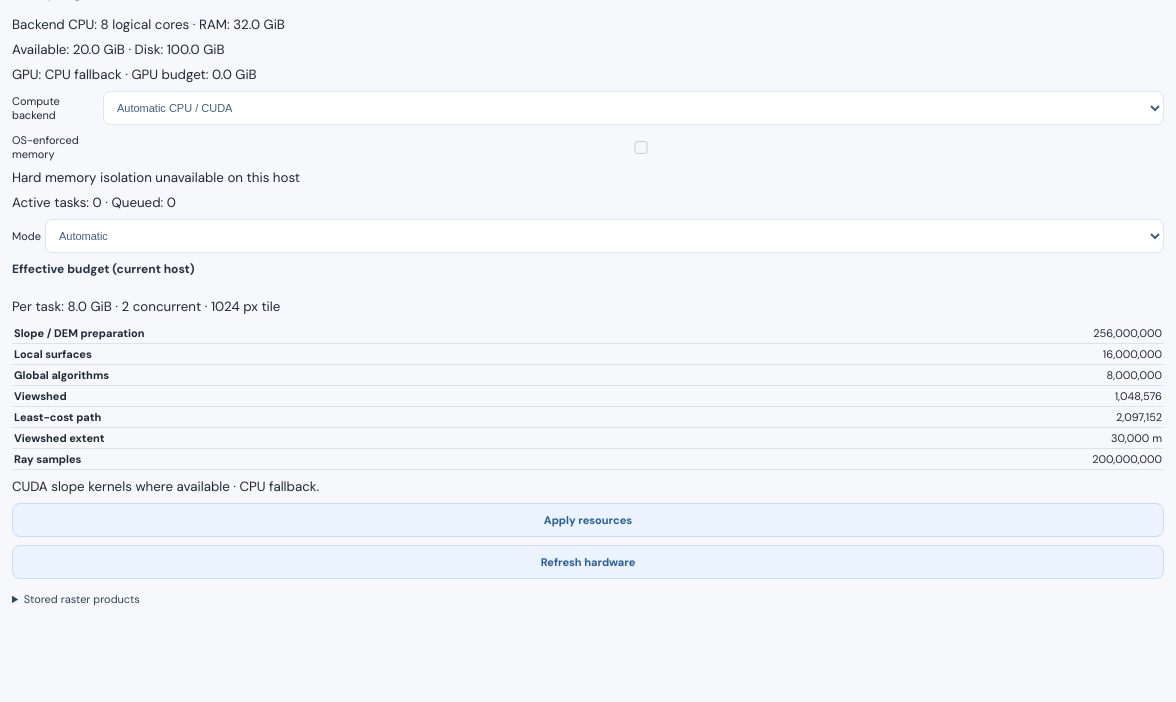
Scenario: does not claim settings were saved when backend rejects an active-task change
Select "Manual" in the dropdown named "Compute resource mode" at {"x": 604, "y": 236}, box [45,219,1164,253]
(page scrolled)
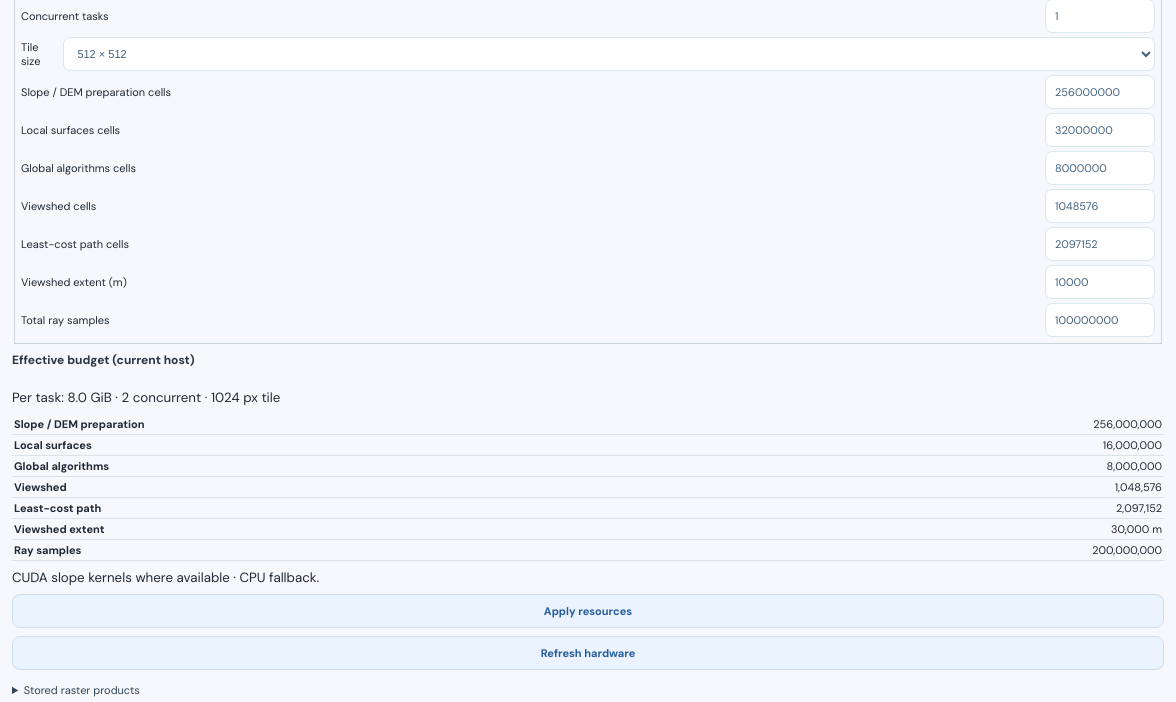
Click the button "Apply resources" at {"x": 588, "y": 611}, box [12,594,1164,628]
(page scrolled)
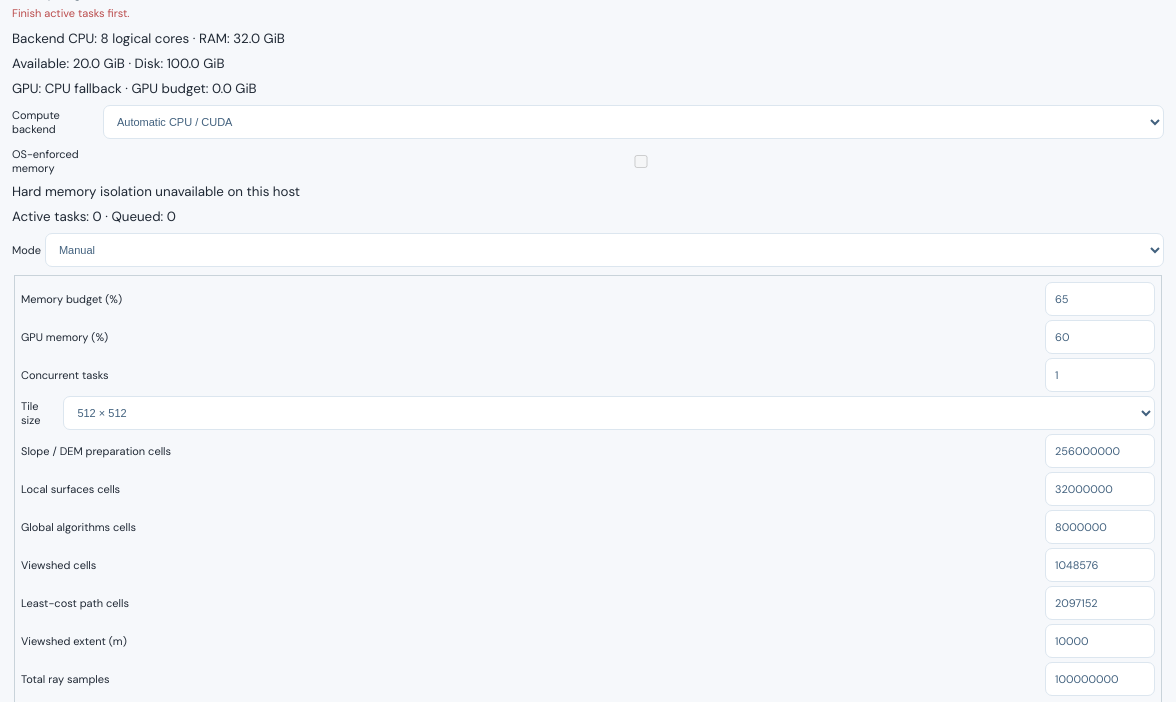
Result: the message reads "Finish active tasks first." at [12,6,130,20]
